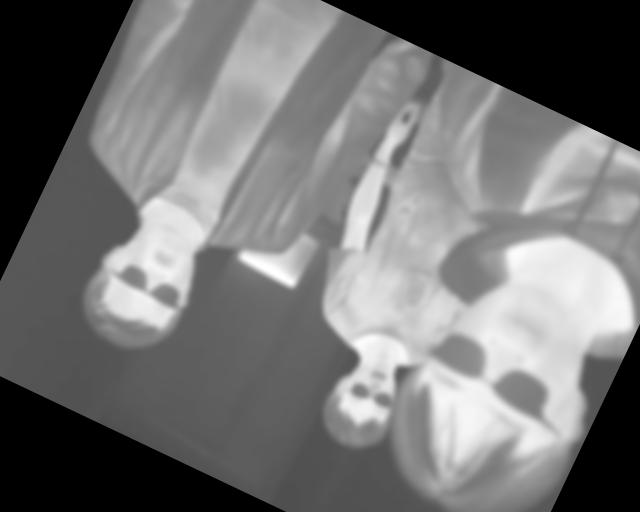face: (360, 251, 629, 512), (67, 204, 216, 367), (308, 342, 413, 461)
